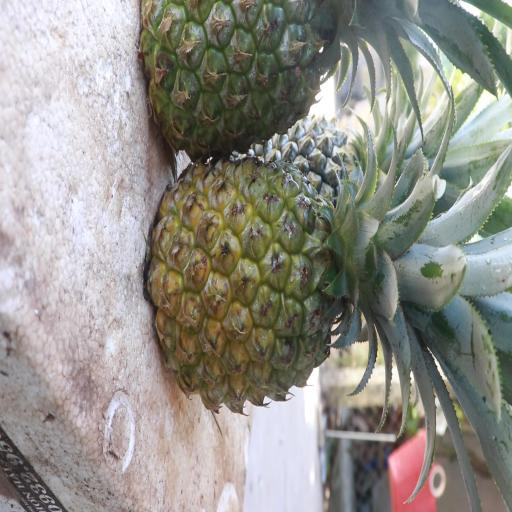------------------------------: (142, 0, 395, 163)
Pineapple - v8 v1: (153, 163, 424, 421)
